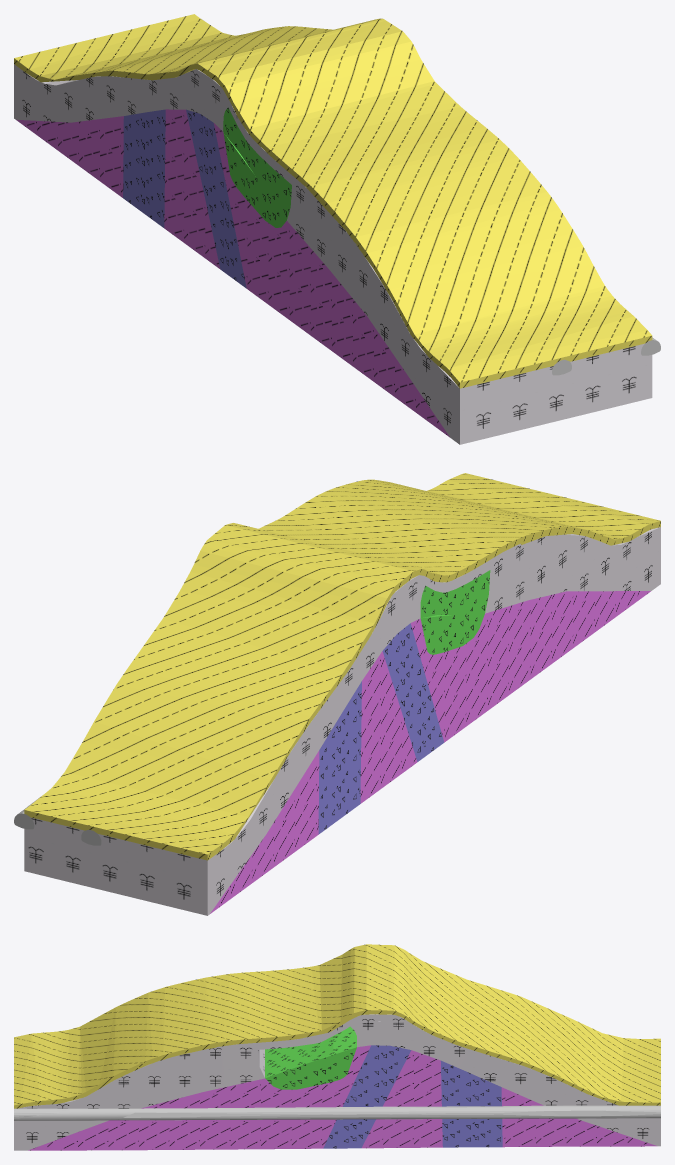
The model's file is mys2_Sec.obj.
The picture shows the model from 3 angles, top to bottom: view 1: azimuth 30°, elevation 25°; view 2: azimuth 150°, elevation 25°; view 3: azimuth 270°, elevation 25°; orthographic projection. The views are drawn at different scales.
Parts seen in each view (by area): view 1: 3, 0, 1, fractures, 2, hole; view 2: 3, 0, 1, fractures, 2, hole; view 3: 3, 0, 1, tunnel_right, fractures, 2, hole.
Part boxes in pixels (<box>): 3: <box>14,14,652,388</box>; 0: <box>16,109,449,437</box>; 1: <box>14,74,652,444</box>; fractures: <box>123,109,246,288</box>; 2: <box>14,64,644,397</box>; hole: <box>223,107,291,227</box>; 3: <box>24,473,660,860</box>; 0: <box>210,591,650,913</box>; 1: <box>24,536,660,915</box>; fractures: <box>318,623,444,834</box>; 2: <box>31,527,660,870</box>; hole: <box>420,570,490,654</box>; 3: <box>14,944,660,1108</box>; 0: <box>28,1045,657,1150</box>; 1: <box>14,1021,660,1150</box>; tunnel_right: <box>14,1105,660,1120</box>; fractures: <box>323,1045,502,1148</box>; 2: <box>18,1014,618,1108</box>; hole: <box>265,1026,356,1089</box>.
Size of the model in its own units: 138 by 125 by 530.
7 materials, 6 textured.
